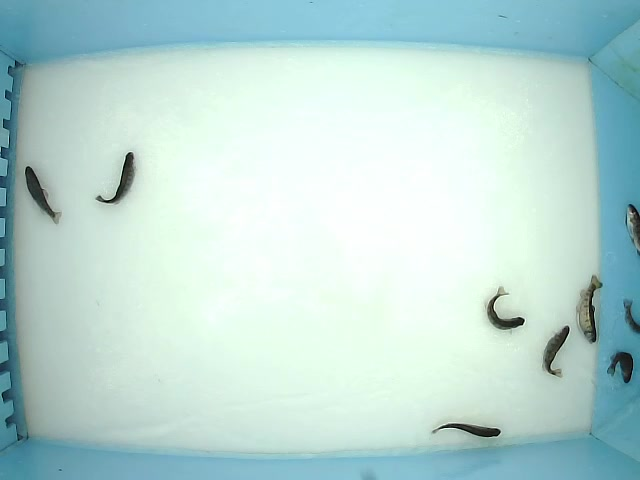fish: (94, 151, 136, 206), (24, 166, 62, 226), (575, 274, 605, 345), (486, 285, 526, 336), (540, 325, 570, 379), (431, 422, 503, 439), (607, 349, 635, 385)
